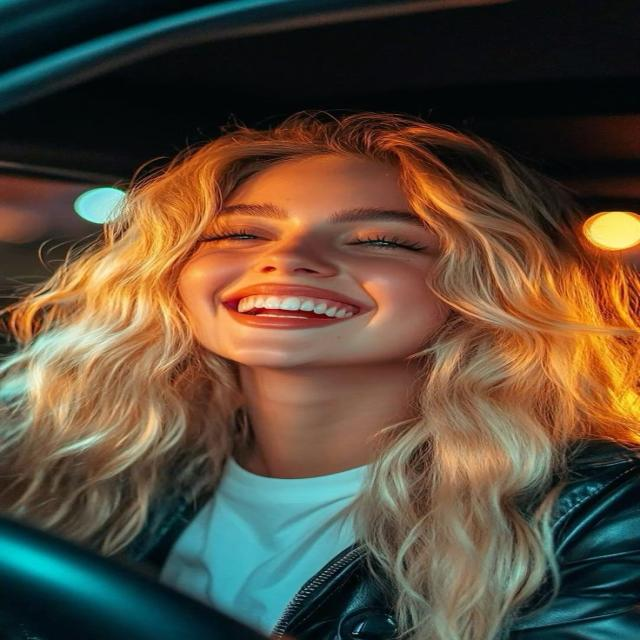sem_oculos: (164, 188, 498, 268)
